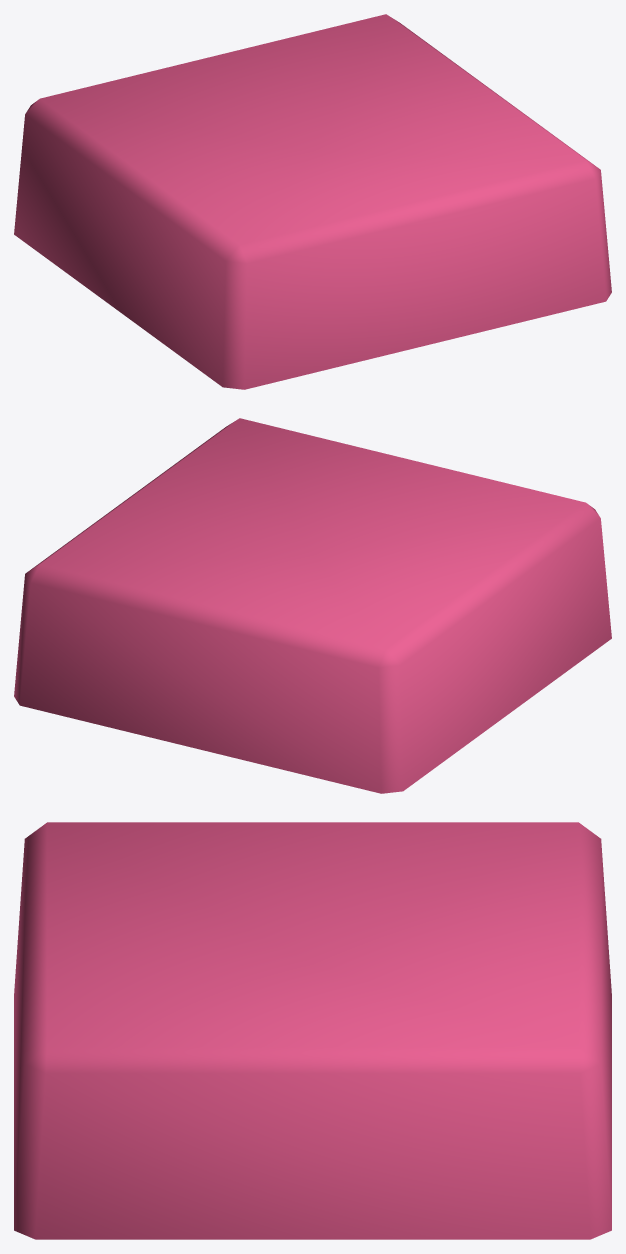
File: Button2.fbx
3 renders of one model, top to bottom at view 1: azimuth 30°, elevation 25°; view 2: azimuth 150°, elevation 25°; view 3: azimuth 270°, elevation 25°, orthographic. The views are drawn at different scales.
Visible parts, largest first — view 1: Button1; view 2: Button1; view 3: Button1.
Part boxes in pixels (x1,y1,x2,y2): Button1: (14, 14, 611, 389); Button1: (14, 418, 611, 793); Button1: (14, 822, 611, 1239).
Bounding box in the file's own units: 3.11 × 1.02 × 3.11.
